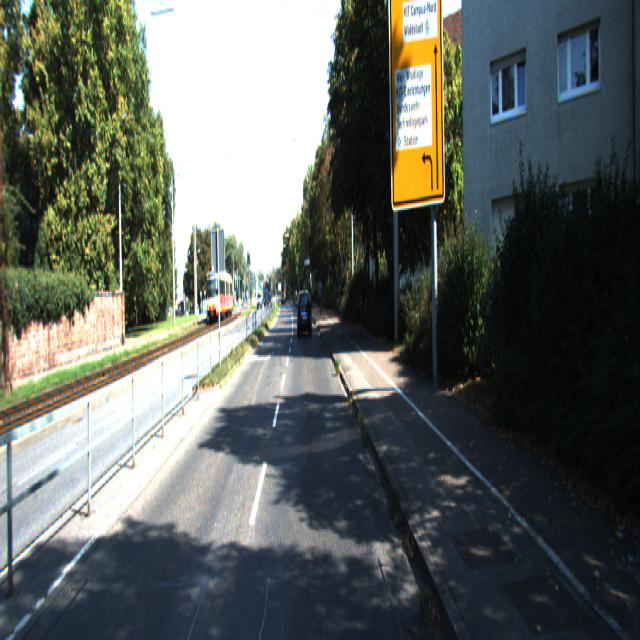Car: (207, 272, 234, 325), (298, 292, 312, 341)
